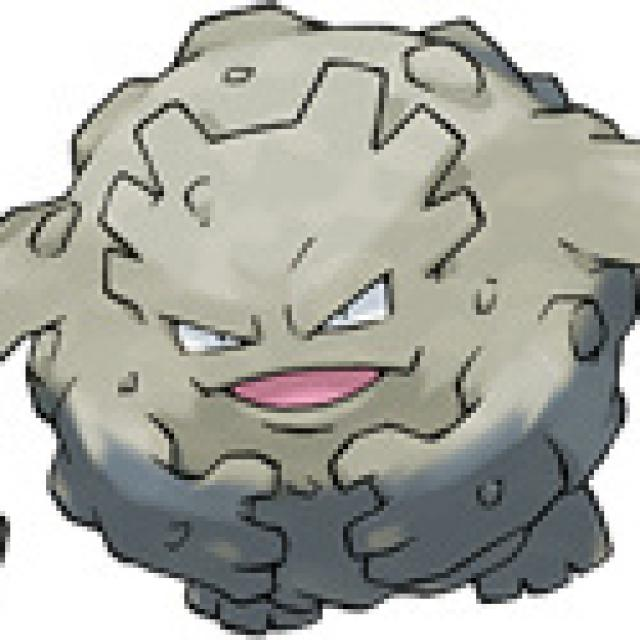Graveler: (5, 6, 640, 640)
